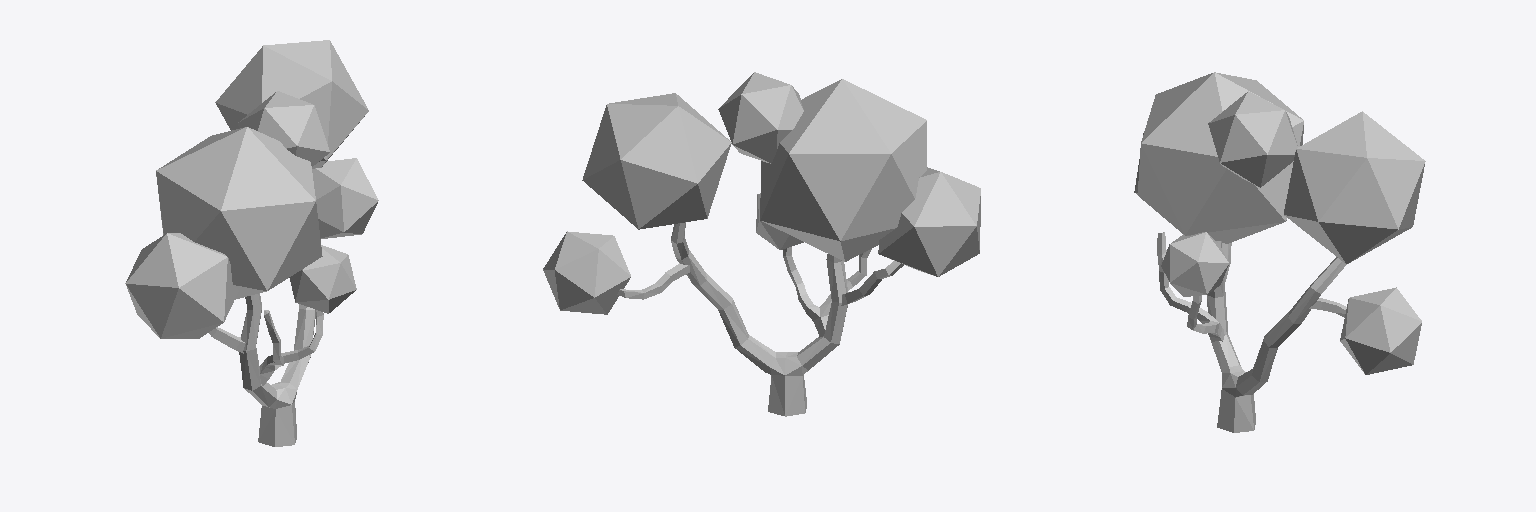
Rendered from LowpolyTree.obj.
3 renders of one model, left to right at view 1: azimuth 30°, elevation 25°; view 2: azimuth 150°, elevation 25°; view 3: azimuth 270°, elevation 25°, orthographic.
Visible parts, largest first — view 1: Tree_lp_11.002; view 2: Tree_lp_11.002; view 3: Tree_lp_11.002.
Part boxes in pixels (x1,y1,x2,y2): Tree_lp_11.002: (125, 40, 378, 446); Tree_lp_11.002: (543, 72, 980, 416); Tree_lp_11.002: (1134, 72, 1425, 432).
Bounding box in the file's own units: 27.98 × 26.54 × 20.8.